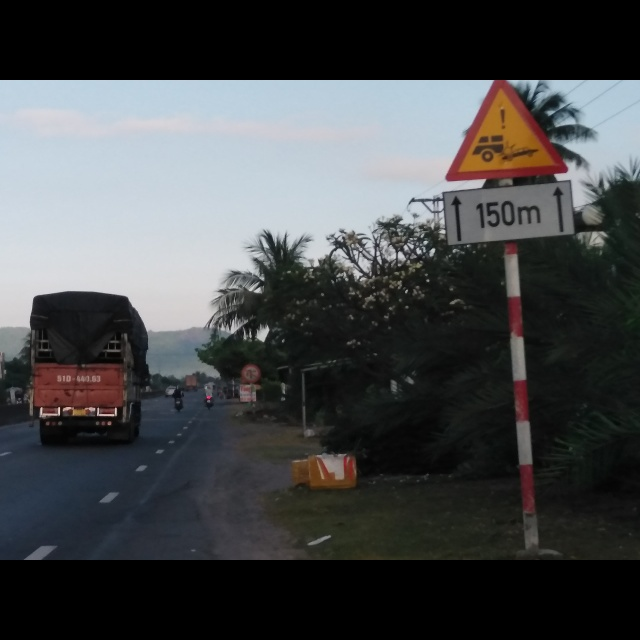Đoạn đường hay xảy ra tai nạn: (440, 81, 570, 180)
